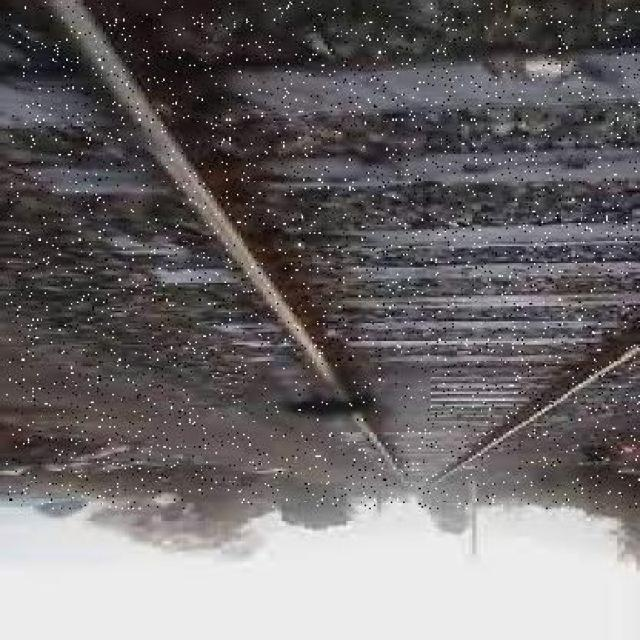rail: (7, 3, 640, 510)
